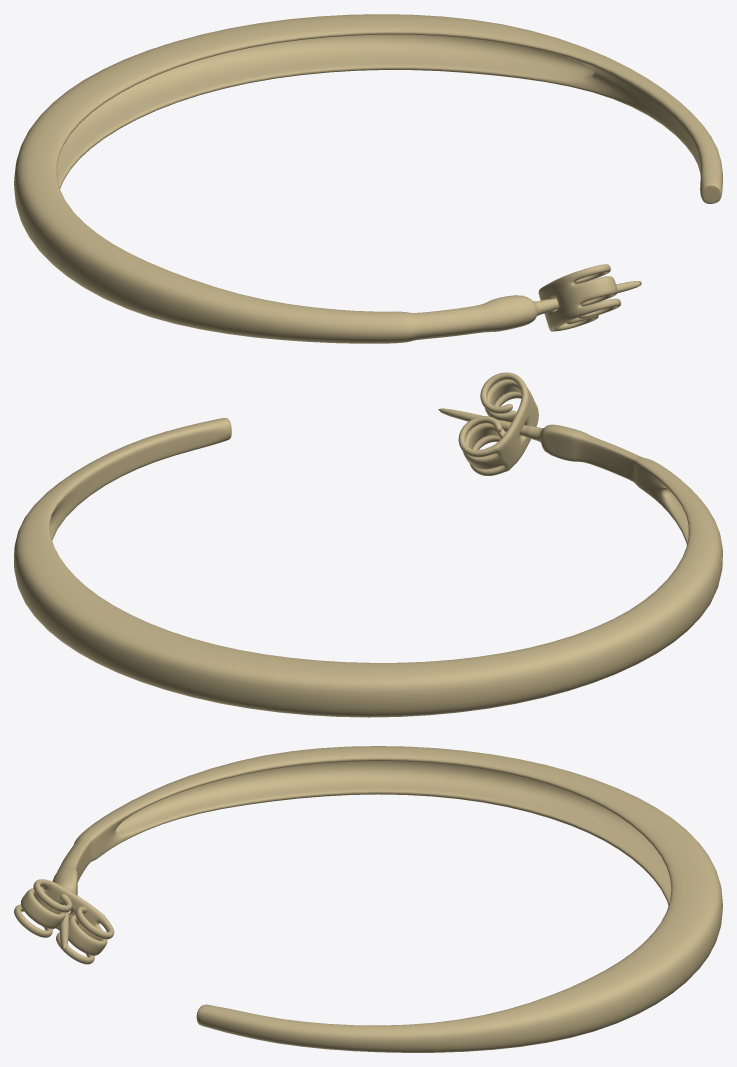
The model's file is 11758__earring_v1_l3.glb.
3 renders of one model, top to bottom at view 1: azimuth 30°, elevation 25°; view 2: azimuth 150°, elevation 25°; view 3: azimuth 270°, elevation 25°, orthographic. The views are drawn at different scales.
Parts seen in each view (by area): view 1: earring_2, earring_mount_r; view 2: earring_2, earring_mount_r; view 3: earring_2, earring_mount_r.
Part boxes in pixels (x1=…): earring_2: x1=14, y1=14, x2=722, y2=343; earring_mount_r: x1=538, y1=264, x2=621, y2=331; earring_2: x1=14, y1=408, x2=722, y2=717; earring_mount_r: x1=458, y1=372, x2=538, y2=475; earring_2: x1=52, y1=746, x2=722, y2=1052; earring_mount_r: x1=14, y1=879, x2=114, y2=964.
Size of the model in its own units: 0.7311 by 0.0941 by 0.7694.
